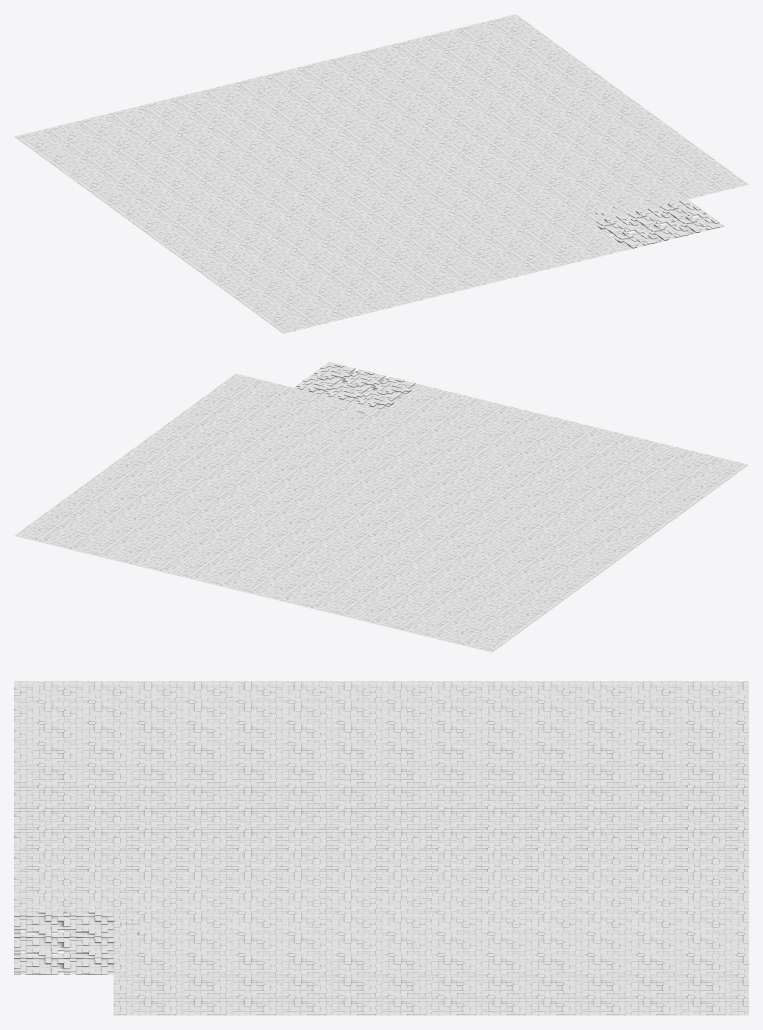
Rendered from FonMainMenu.fbx.
3 renders of one model, top to bottom at view 1: azimuth 30°, elevation 25°; view 2: azimuth 150°, elevation 25°; view 3: azimuth 270°, elevation 25°, orthographic. The views are drawn at different scales.
Parts seen in each view (by area): view 1: Fon; view 2: Fon; view 3: Fon.
Part boxes in pixels (box(x1,y1,x2,y2)): Fon: box(14, 14, 748, 333); Fon: box(14, 362, 748, 652); Fon: box(14, 681, 748, 1015).
Size of the model in its own units: 235 by 0.6157 by 218.
2 materials, 2 textured.
